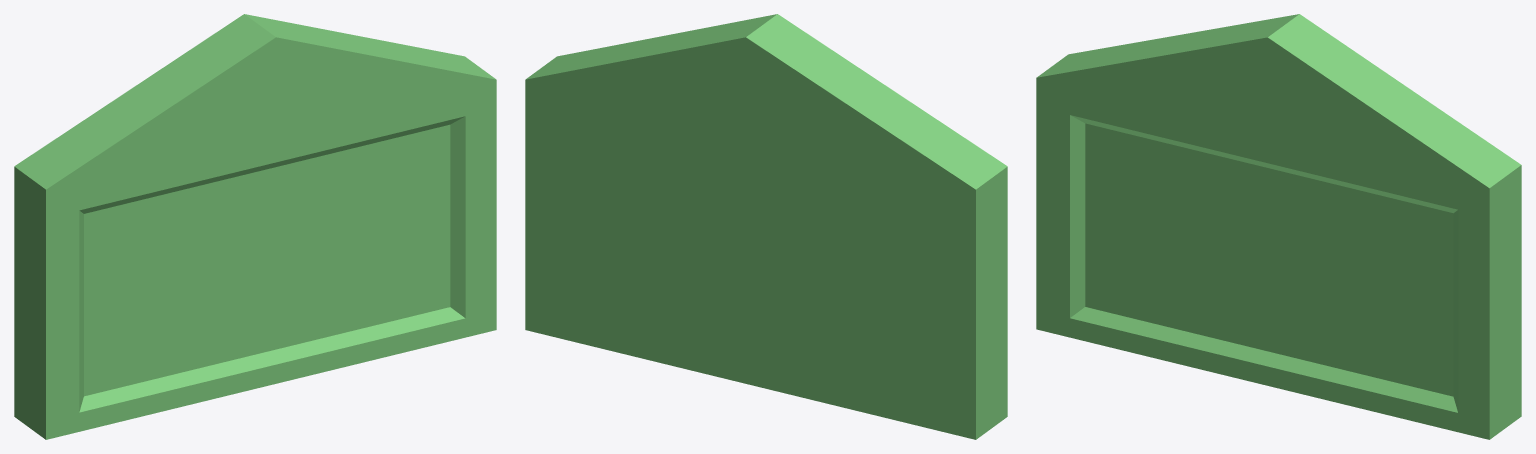
File: Bld3_Deco_Tri2.fbx
3 renders of one model, left to right at view 1: azimuth 30°, elevation 25°; view 2: azimuth 150°, elevation 25°; view 3: azimuth 330°, elevation 25°, orthographic.
Visible parts, largest first — view 1: Bld3_Deco_Tri2; view 2: Bld3_Deco_Tri2; view 3: Bld3_Deco_Tri2.
Part boxes in pixels (<box>): Bld3_Deco_Tri2: <box>14,14,496,439</box>; Bld3_Deco_Tri2: <box>525,14,1007,439</box>; Bld3_Deco_Tri2: <box>1036,14,1521,439</box>.
Bounding box in the file's own units: 368 × 270 × 44.96.
